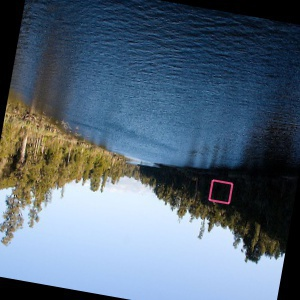square: (205, 178, 234, 206)
